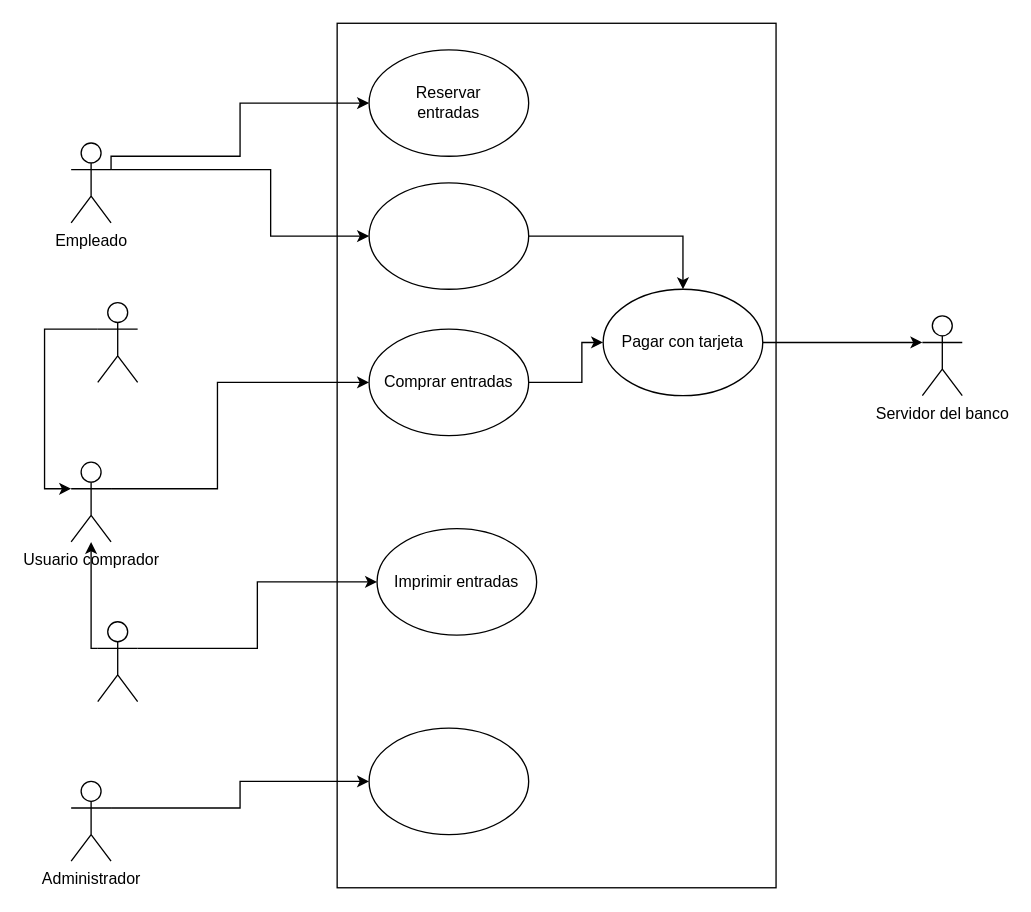
The diagram is 1031 pixels wide and 912 high, and some of its shapes have lost their labels. The centre of each missing label's shape, as x and y in pixels:
Ingresar la distribución semanal: [448,781]
Retirar entradas: [448,235]
Usuario: [117,341]
Vendedor de boletería: [117,661]
